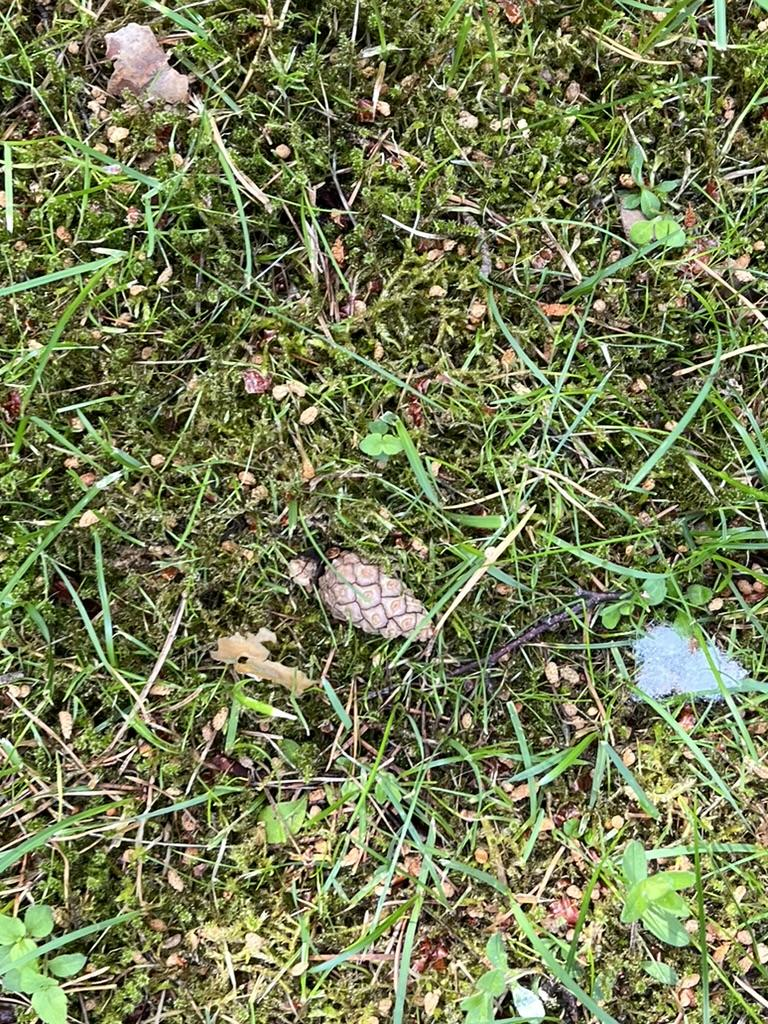pine: (286, 533, 441, 658)
